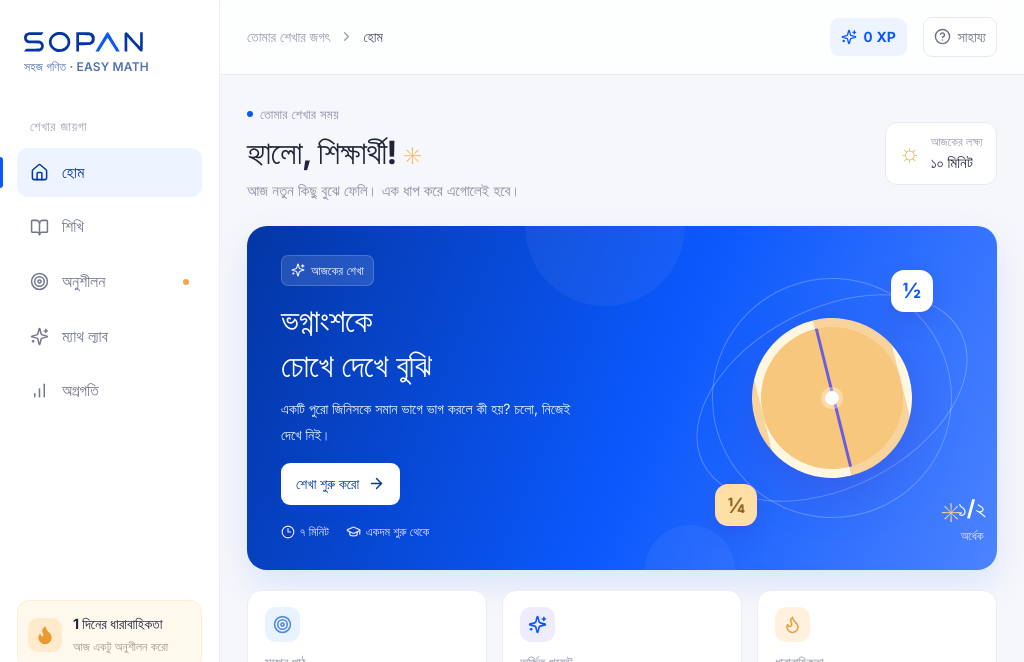
Test case: Easy Math learning flow › teaches place value with manipulable hundreds, tens and ones
The width and height of the screenshot is (1024, 662).
Click the button "শিখি" at x=110, y=227, box 17,202 -> 202,252
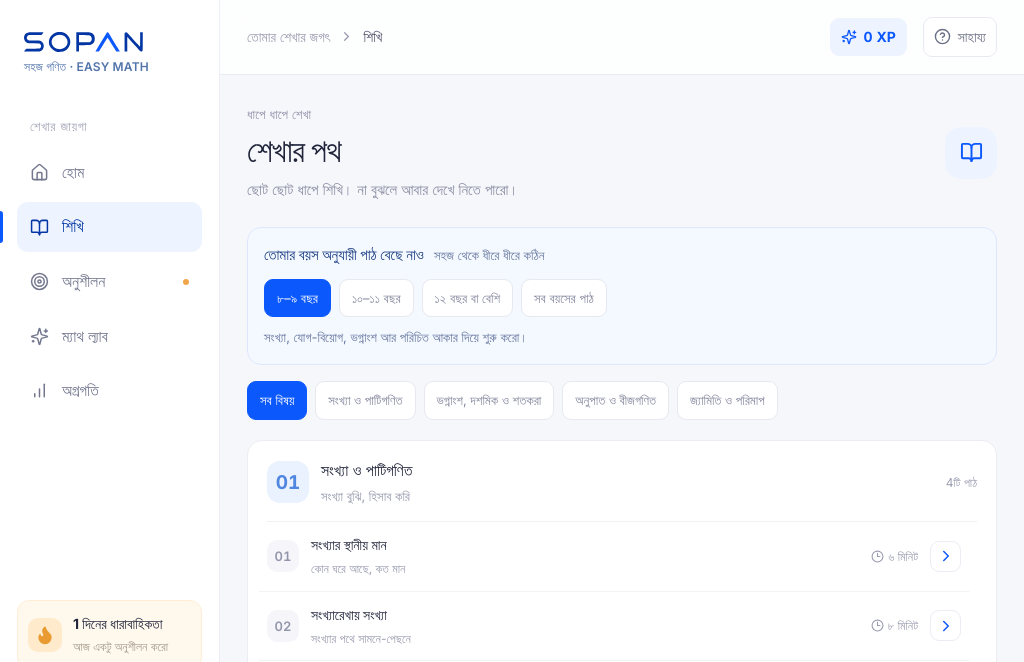
Click the button with aria-label "সংখ্যার স্থানীয় মান খুলুন" at x=283, y=556, box 259,522 -> 969,592
(page scrolled)
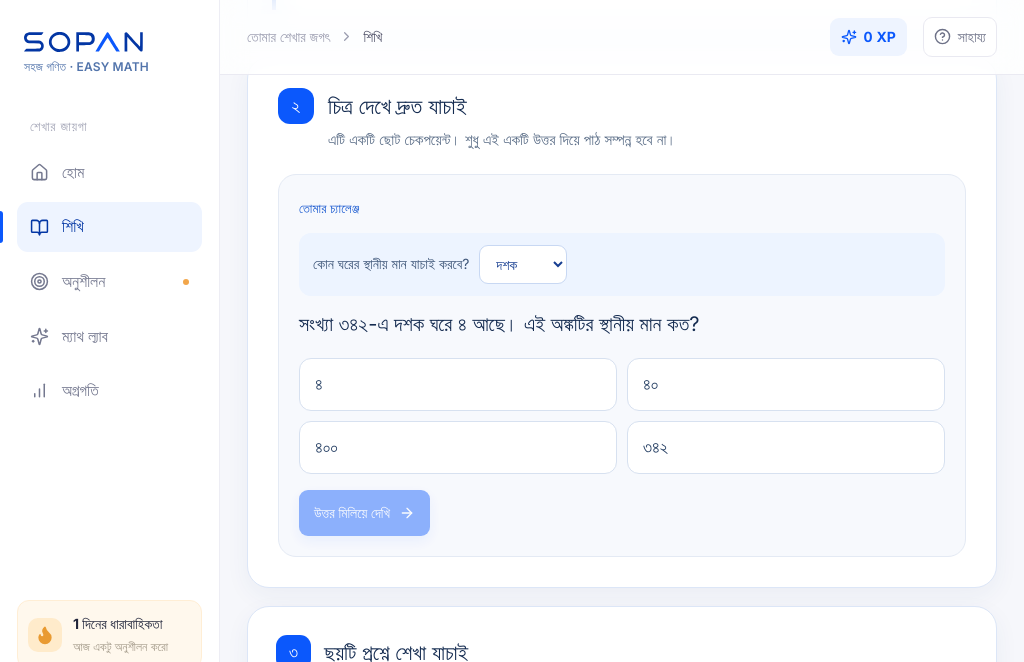
Click the button "৪০" at x=651, y=384, box 627,358 -> 945,411
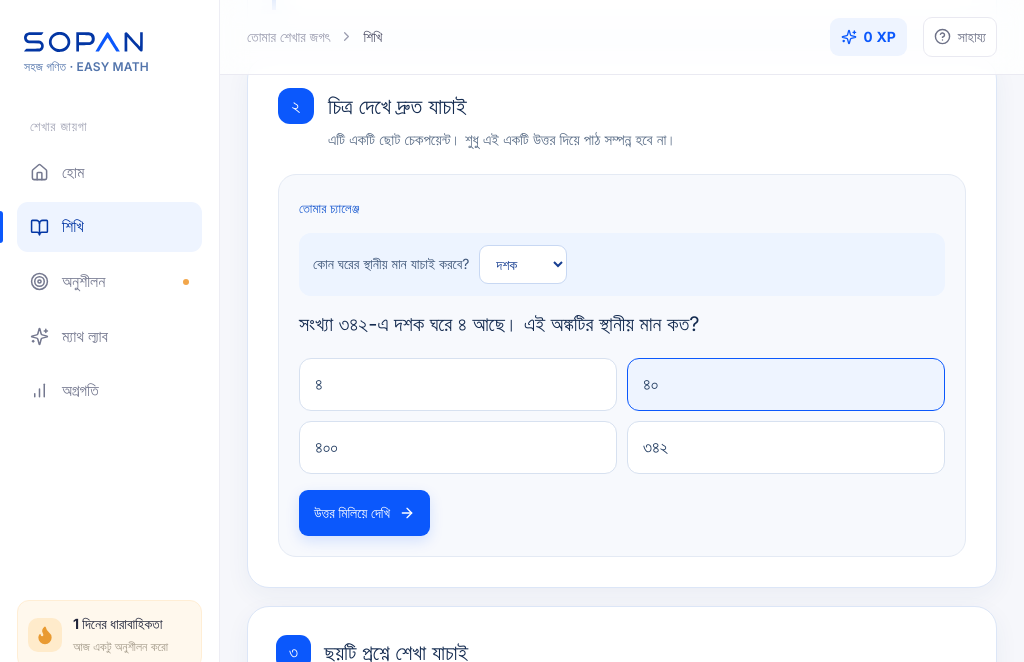
Click the button "উত্তর মিলিয়ে দেখি" at x=364, y=513, box 299,490 -> 430,536
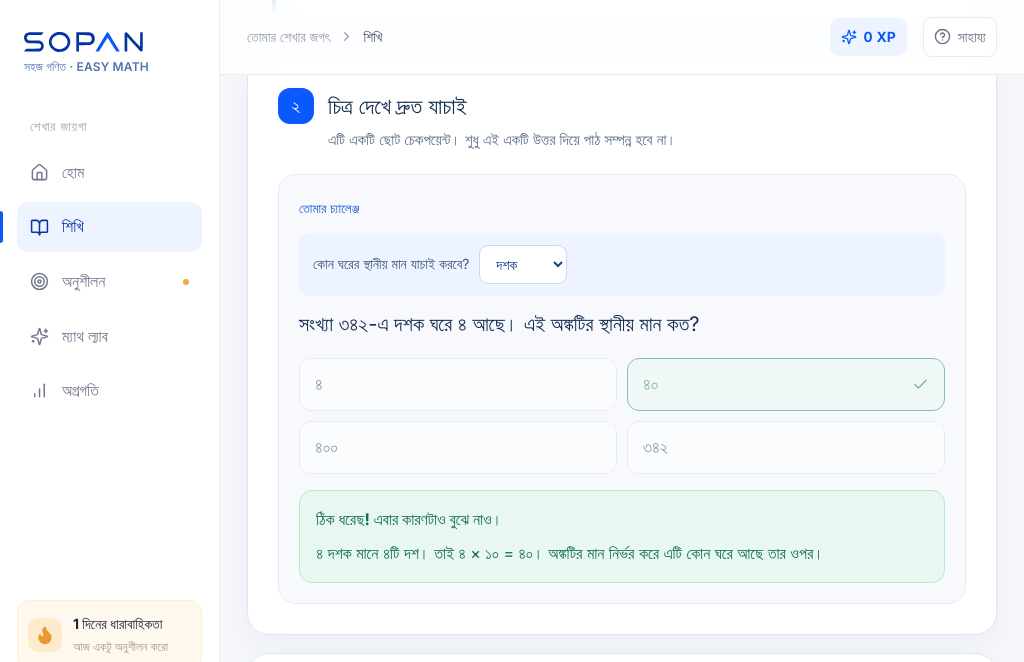
Result: the text "ঠিক ধরেছ! এবার কারণটাও বুঝে নাও।" is shown at 316,509 -> 502,529
Result: the text "৪ দশক মানে ৪টি দশ" is shown at 316,542 -> 824,562
